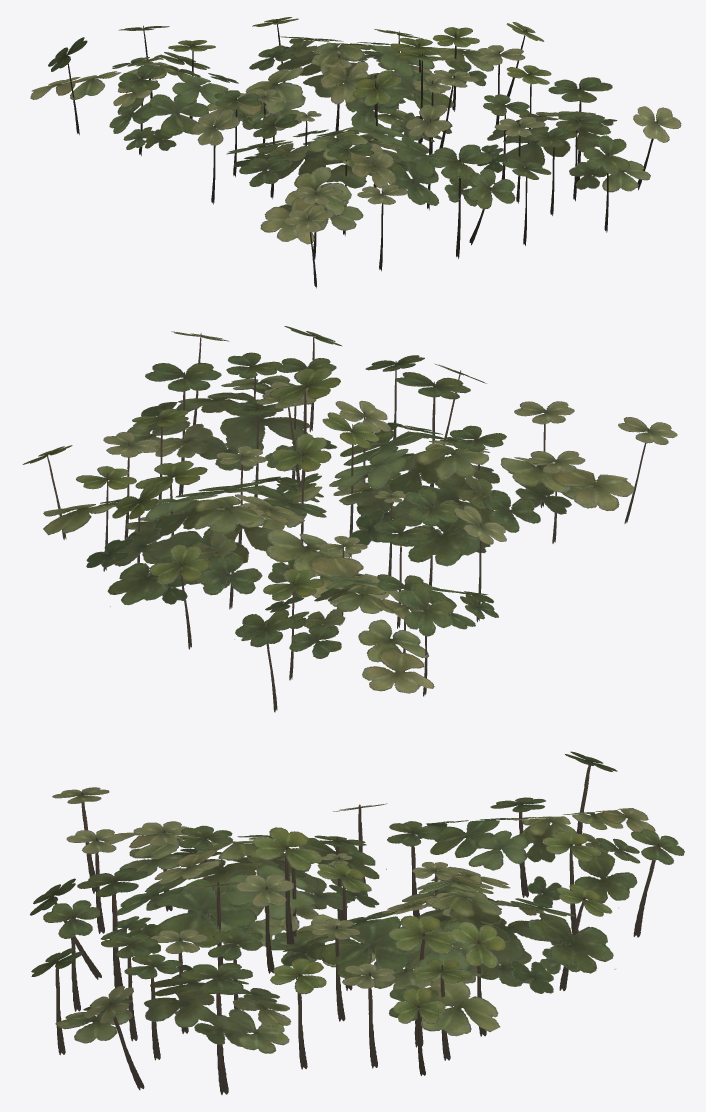
The model's file is grizzlyhills_clovers01.obj.
3 renders of one model, top to bottom at view 1: azimuth 30°, elevation 25°; view 2: azimuth 150°, elevation 25°; view 3: azimuth 270°, elevation 25°, orthographic. The views are drawn at different scales.
Parts seen in each view (by area): view 1: grizzlyhills_clovers01; view 2: grizzlyhills_clovers01; view 3: grizzlyhills_clovers01.
Boxes of the visible parts, <box> form: grizzlyhills_clovers01: <box>30,17,681,288</box>; grizzlyhills_clovers01: <box>22,326,677,712</box>; grizzlyhills_clovers01: <box>30,751,684,1094</box>.
Size of the model in its own units: 2.29 by 0.6975 by 2.36.
1 material, 1 textured.
